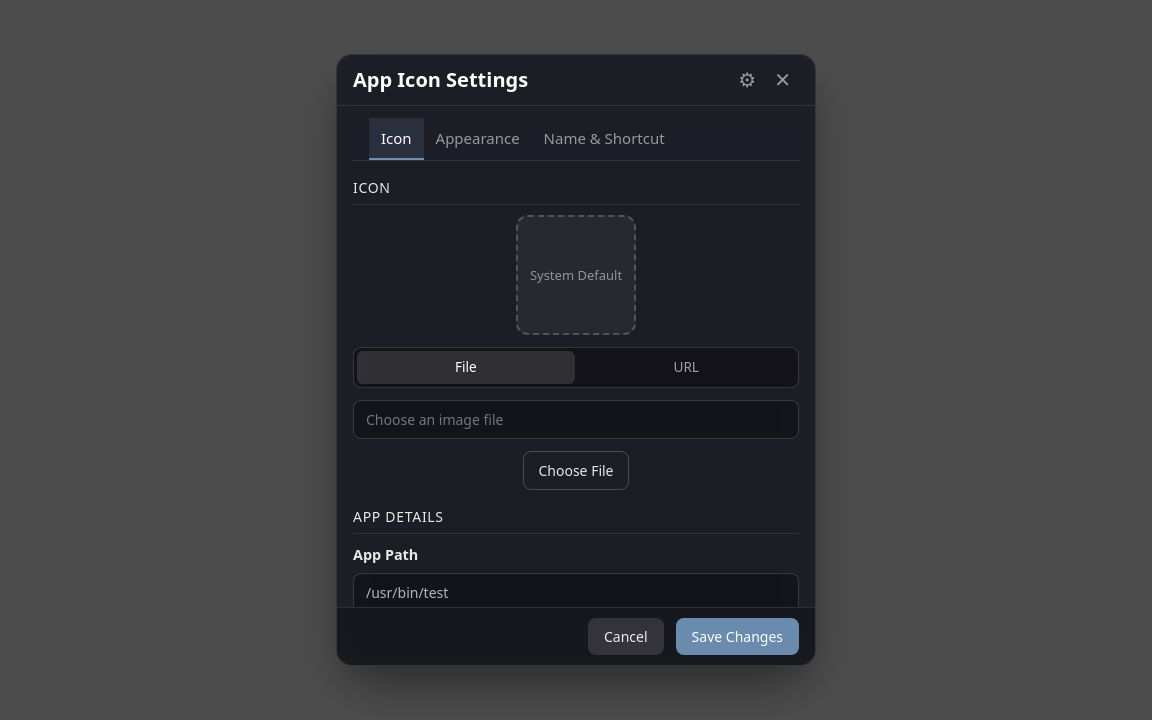
Test: IconSettingsModal appearance › shows a live preview tile in the appearance tab
The image size is (1152, 720).
Step 1. Click the tab "Appearance" → (478, 139), box [424, 118, 532, 160]
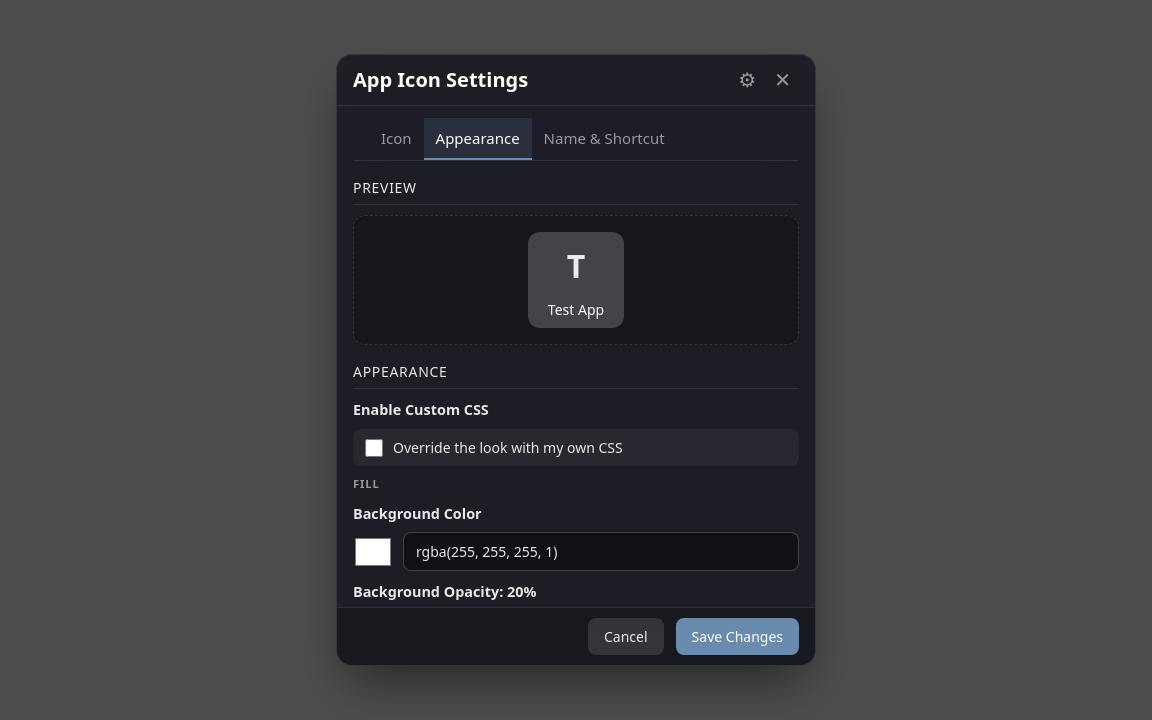
Result: the element with class "tile-preview" is shown at [528, 232, 624, 328]
